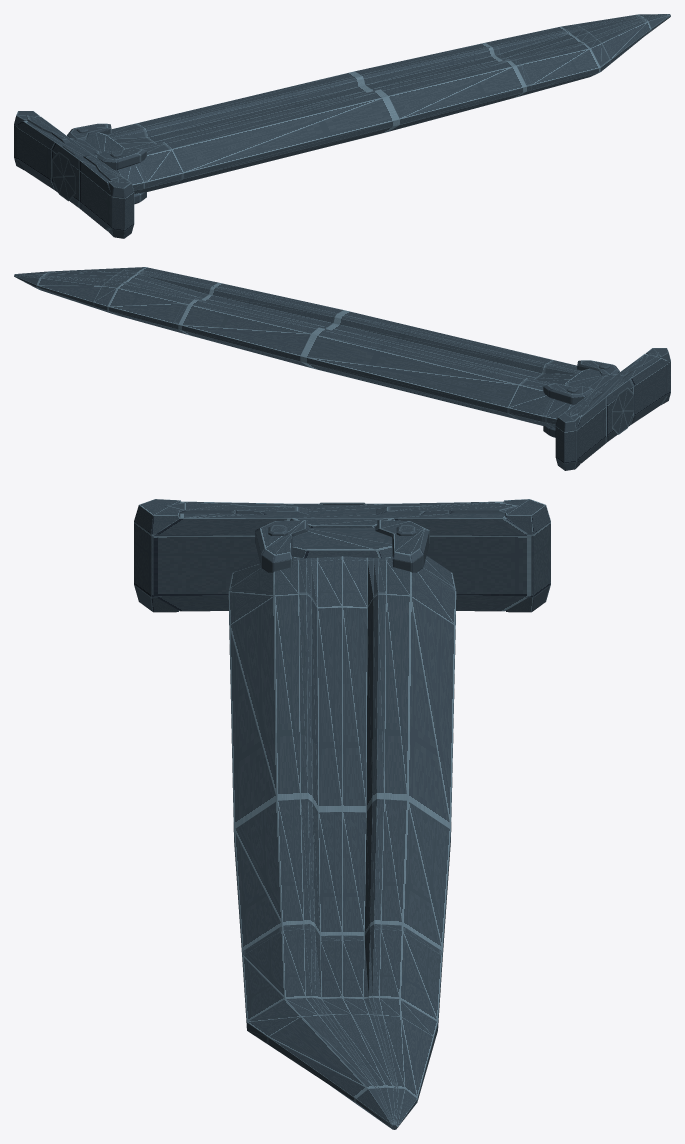
The model's file is bench_xuantie_sword_2.obj.
3 views of the same model, one above another, from view 1: azimuth 30°, elevation 25°; view 2: azimuth 150°, elevation 25°; view 3: azimuth 270°, elevation 25° (orthographic). The views are drawn at different scales.
Parts seen in each view (by area): view 1: geometry; view 2: geometry; view 3: geometry.
Boxes of the visible parts, bbox=[...] form: geometry: bbox=[14, 14, 670, 238]; geometry: bbox=[14, 267, 670, 470]; geometry: bbox=[134, 499, 550, 1129].
Size of the model in its own units: 0.75 by 0.0616 by 0.2272.
